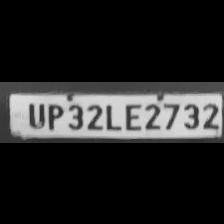2: (84, 100, 104, 130), (141, 100, 161, 130), (200, 99, 220, 129)
3: (64, 100, 84, 130), (180, 99, 200, 129)
7: (161, 100, 179, 130)
E: (122, 100, 140, 130)
L: (102, 100, 120, 130)
P: (43, 100, 63, 130)
U: (23, 99, 44, 127)
